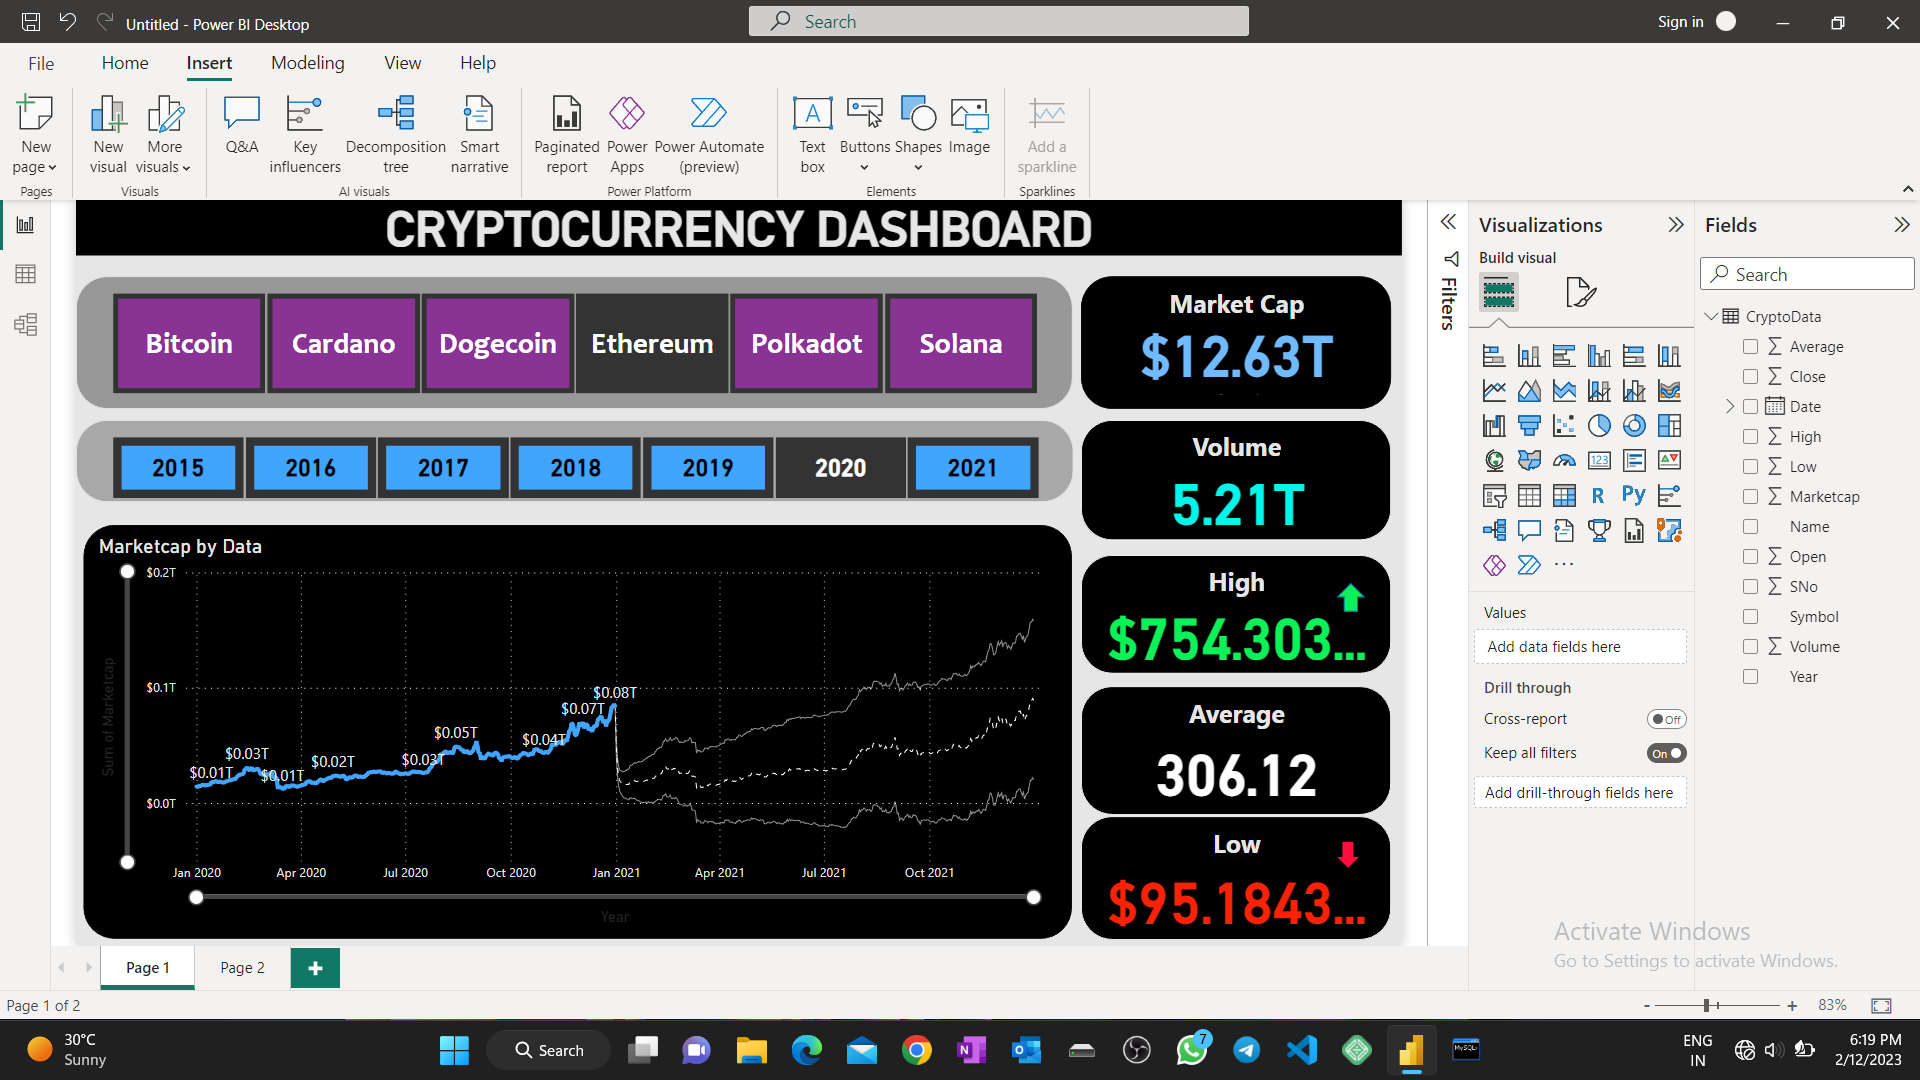

The page's visual inventory and layout, read from the dashboard file:
{"tool":"powerbi","page":{"name":"Page 1","canvas":[1280,720],"ordinal":0},"visuals":[{"type":"slicer","fields":{"Values":["CryptoData.Name"]},"box":[0,73.6,961.2,127.8],"z":0},{"type":"slicer","fields":{"Values":["CryptoData.Year"]},"box":[0,212.3,962.4,79.6],"z":2000},{"type":"lineChart","title":"Marketcap by Data","fields":{"Y":["Sum(CryptoData.Marketcap)"],"Category":["CryptoData.Date.Variation.Date Hierarchy.Year","CryptoData.Date.Variation.Date Hierarchy.Quarter","CryptoData.Date.Variation.Date Hierarchy.Month","CryptoData.Date.Variation.Date Hierarchy.Day"]},"box":[7.2,313.6,954,399.2],"z":3000},{"type":"textbox","title":"CRYPTOCURRENCY DASHBOARD","box":[0,0,1279.6,57.9],"z":5000},{"type":"card","title":"Market Cap","fields":{"Values":["Sum(CryptoData.Marketcap)"]},"box":[969.6,73.6,299.1,127.8],"z":6000},{"type":"card","title":"Volume","fields":{"Values":["Sum(CryptoData.Volume)"]},"box":[969.6,212.3,299.1,115.8],"z":7000},{"type":"card","title":"High","fields":{"Values":["Max(CryptoData.High)"]},"box":[969.6,342.5,299.1,114.6],"z":8000},{"type":"card","title":"Average","fields":{"Values":["Avg(CryptoData.Average)"]},"box":[969.6,469.1,299.1,124.2],"z":9000},{"type":"card","title":"Low","fields":{"Values":["Min(CryptoData.Low)"]},"box":[969.6,594.6,299.1,119.4],"z":10000},{"type":"shape","box":[1207.2,360.6,45.8,45.8],"z":11000},{"type":"shape","box":[1207.2,610.3,39.8,43.4],"z":12000}]}

Visuals, with their boxes on the page's 1280x720 design canvas (x1, y1, x2, y2). These are canvas units, not pixel positions in the 1920x1080 screenshot, which may show the page scaled, cropped or inside an application window:
slicer - CryptoData.Name: 0, 74, 961, 201
slicer - CryptoData.Year: 0, 212, 962, 292
"Marketcap by Data" lineChart: 7, 314, 961, 713
"CRYPTOCURRENCY DASHBOARD" textbox: 0, 0, 1280, 58
"Market Cap" card: 970, 74, 1269, 201
"Volume" card: 970, 212, 1269, 328
"High" card: 970, 342, 1269, 457
"Average" card: 970, 469, 1269, 593
"Low" card: 970, 595, 1269, 714
shape: 1207, 361, 1253, 406
shape: 1207, 610, 1247, 654
